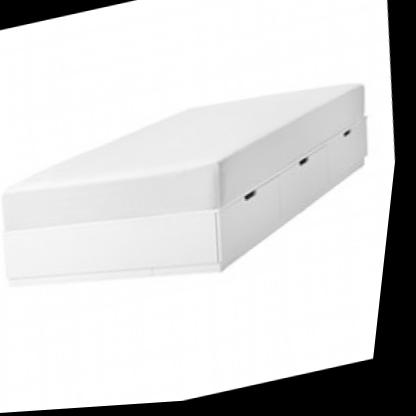Bed: (0, 56, 403, 327)
